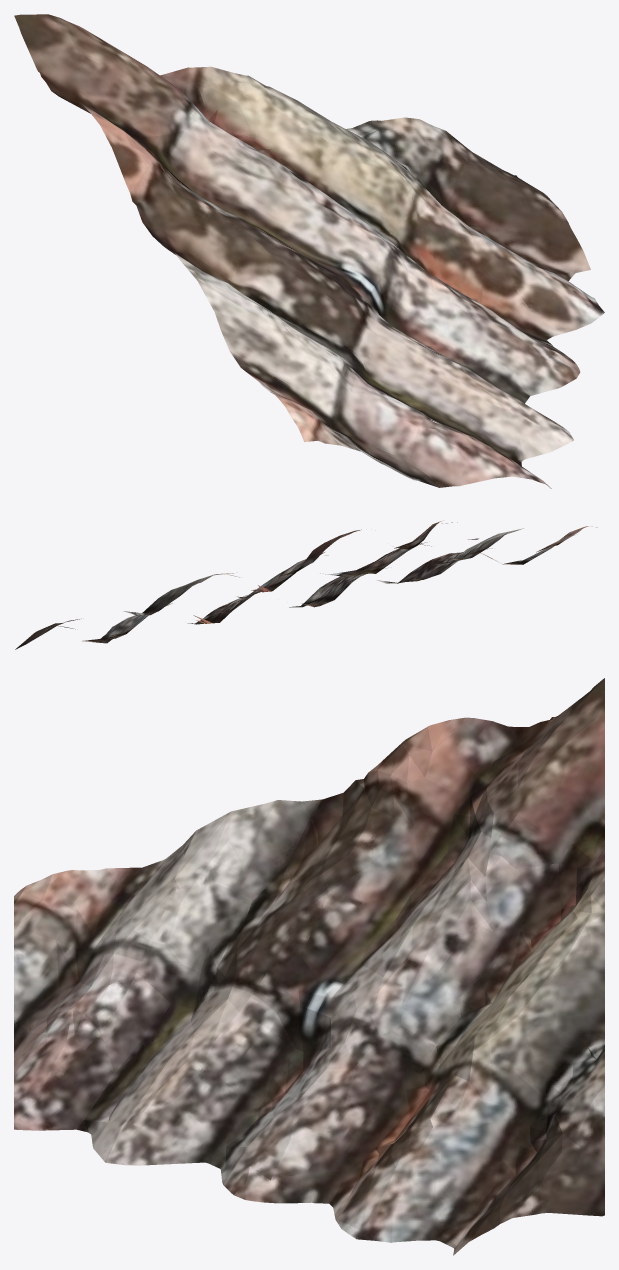
The picture shows the model from 3 angles, top to bottom: view 1: azimuth 30°, elevation 25°; view 2: azimuth 150°, elevation 25°; view 3: azimuth 270°, elevation 25°; orthographic projection. The views are drawn at different scales.
Bounding box in the file's own units: 0.8373 × 0.5131 × 0.8373.
2 materials, 2 textured.
